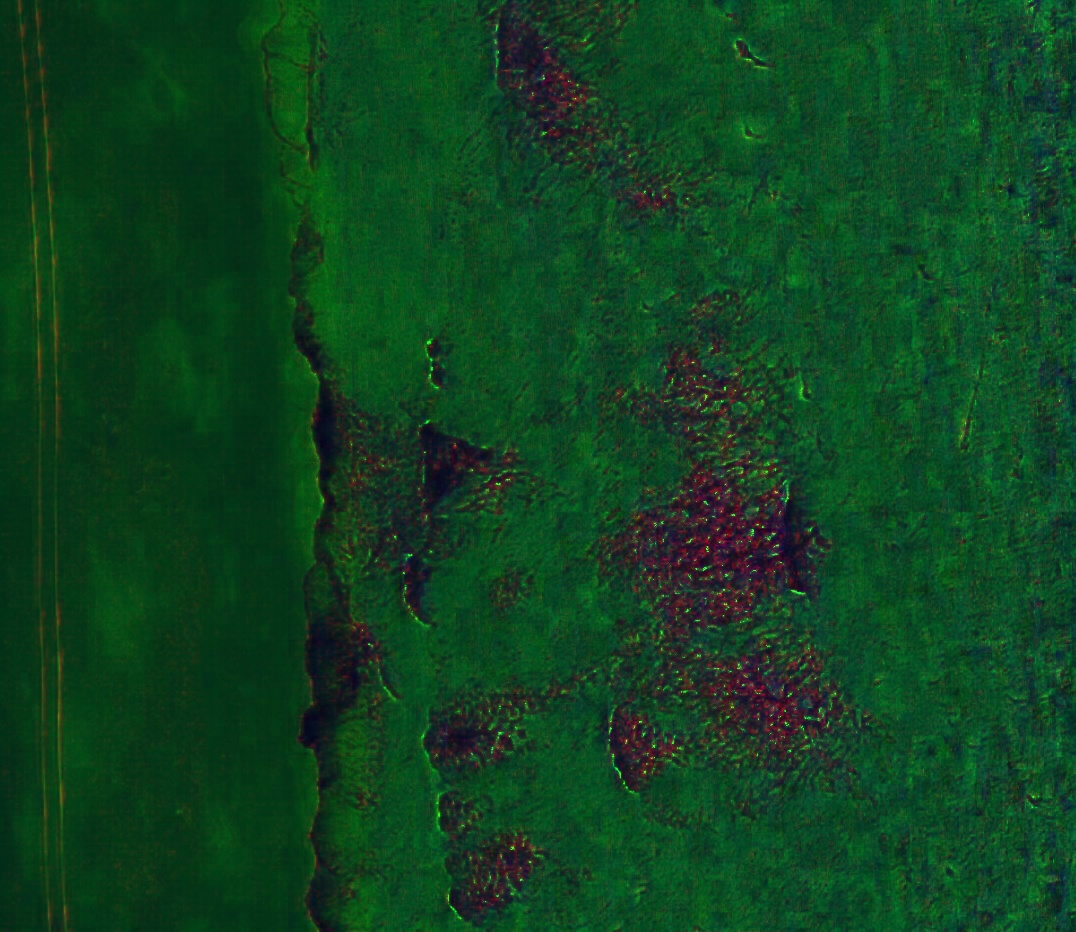rip_current: (306, 105, 826, 440)
